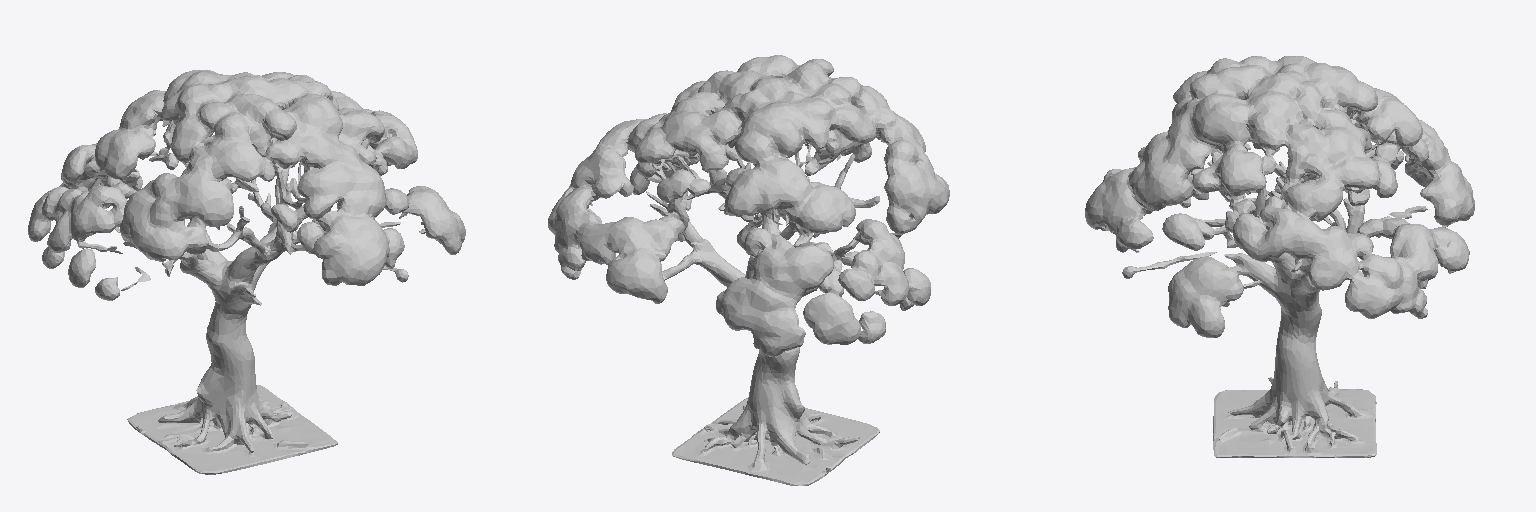
The model's file is a_tree_model_for_an_i_0919133337_preview.obj.
3 renders of one model, left to right at view 1: azimuth 30°, elevation 25°; view 2: azimuth 150°, elevation 25°; view 3: azimuth 270°, elevation 25°, orthographic.
Visible parts, largest first — view 1: Mesh1; view 2: Mesh1; view 3: Mesh1.
Part boxes in pixels (x1,y1,x2,y2): Mesh1: (28, 70, 465, 474); Mesh1: (548, 55, 949, 485); Mesh1: (1085, 56, 1474, 457).
Bounding box in the file's own units: 1.98 × 1.96 × 1.94.